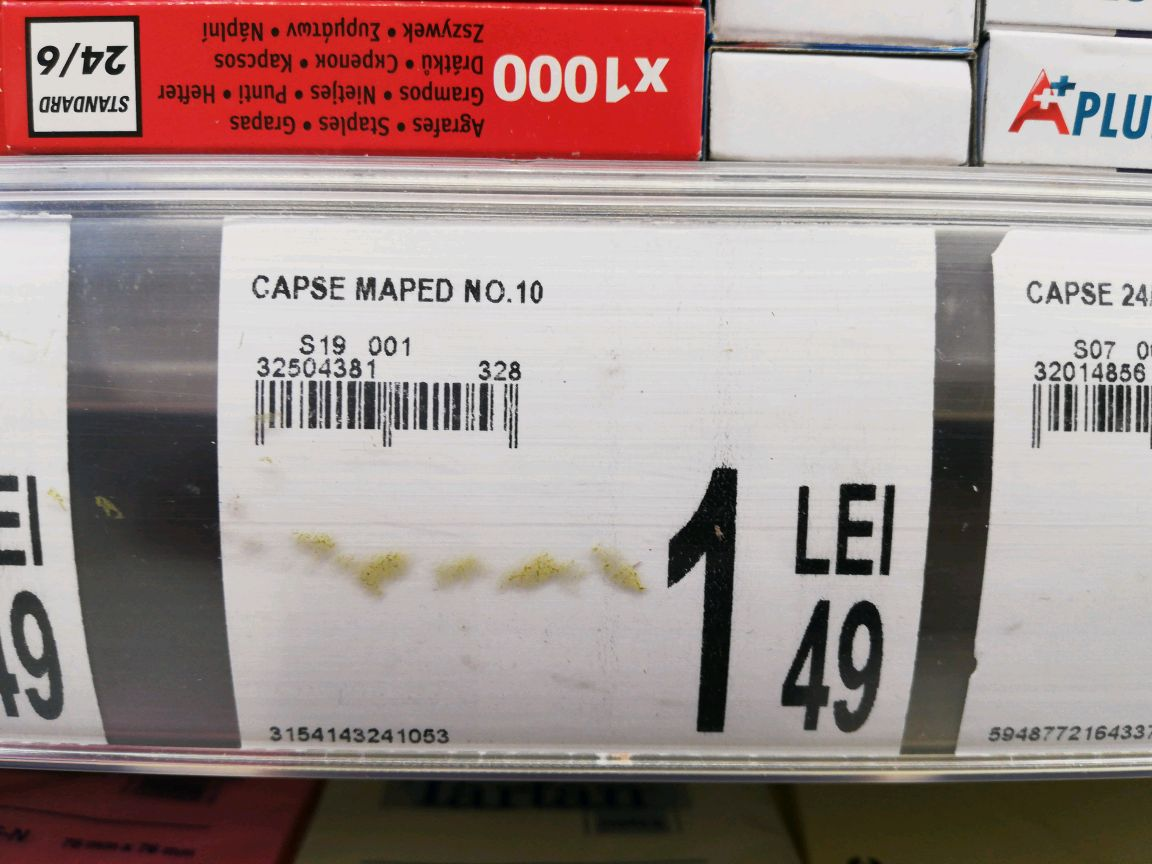price_bani: (769, 584, 893, 748)
price_lei: (653, 453, 751, 743)
price_tag: (193, 207, 941, 763)
product_id: (253, 712, 467, 754)
product_name: (237, 268, 562, 313)
